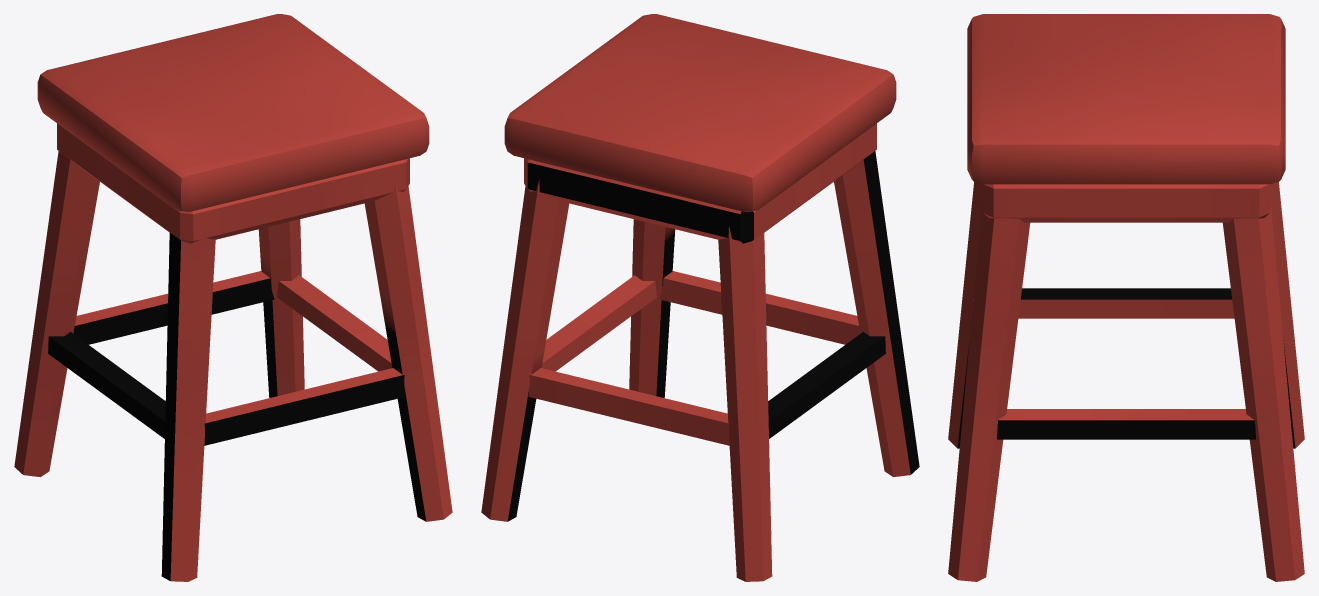
The model's file is stool_plastic.glb.
The picture shows the model from 3 angles, left to right: view 1: azimuth 30°, elevation 25°; view 2: azimuth 150°, elevation 25°; view 3: azimuth 270°, elevation 25°; orthographic projection. The views are drawn at different scales.
Visible parts, largest first — view 1: stool_plastic; view 2: stool_plastic; view 3: stool_plastic.
Part boxes in pixels (x1=…): stool_plastic: x1=14, y1=14, x2=452, y2=581; stool_plastic: x1=481, y1=14, x2=919, y2=581; stool_plastic: x1=948, y1=14, x2=1304, y2=581.
Size of the model in its own units: 0.331 by 0.4525 by 0.3358.
1 material, 1 textured.
